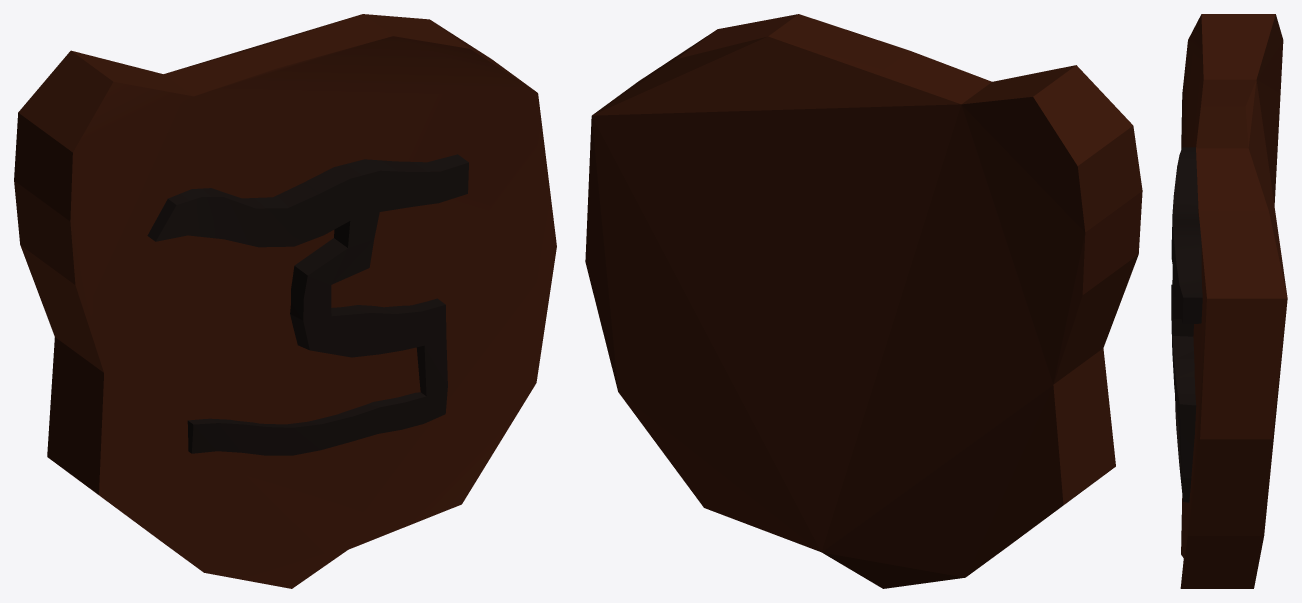
The model's file is Runa.FBX.
The picture shows the model from 3 angles, left to right: view 1: azimuth 30°, elevation 25°; view 2: azimuth 150°, elevation 25°; view 3: azimuth 270°, elevation 25°; orthographic projection. The views are drawn at different scales.
Visible parts, largest first — view 1: Box002; view 2: Box002; view 3: Box002.
Part boxes in pixels (x1,y1,x2,y2): Box002: [14, 14, 556, 588]; Box002: [585, 14, 1142, 588]; Box002: [1171, 14, 1287, 588].
Bounding box in the file's own units: 104 × 108 × 24.29.
